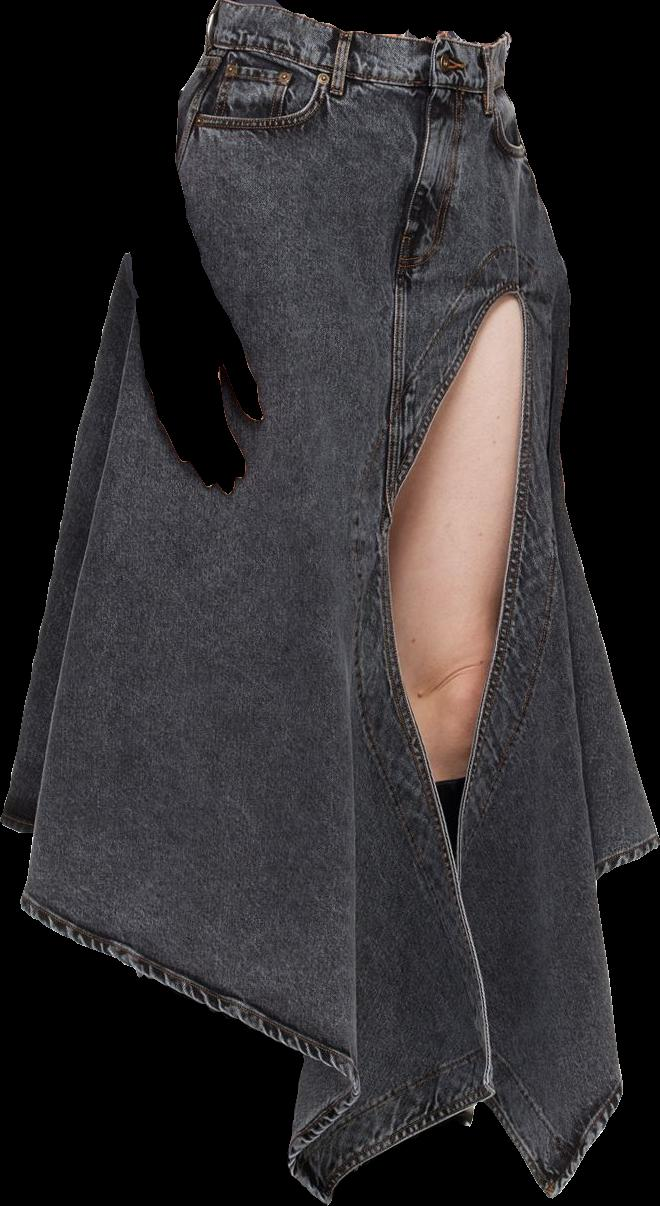Hemline: (0, 276, 519, 1200), (452, 280, 659, 1205)
Waistline: (212, 0, 513, 50), (202, 47, 507, 96)
